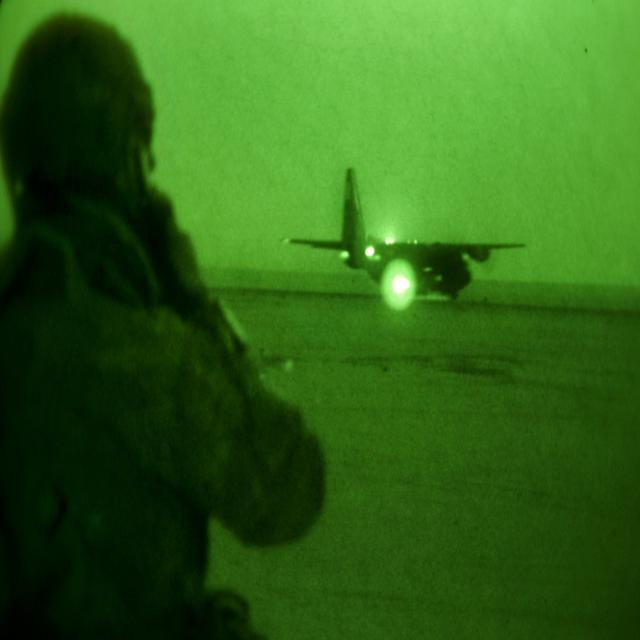MIL_Plane: (0, 135, 207, 268)
